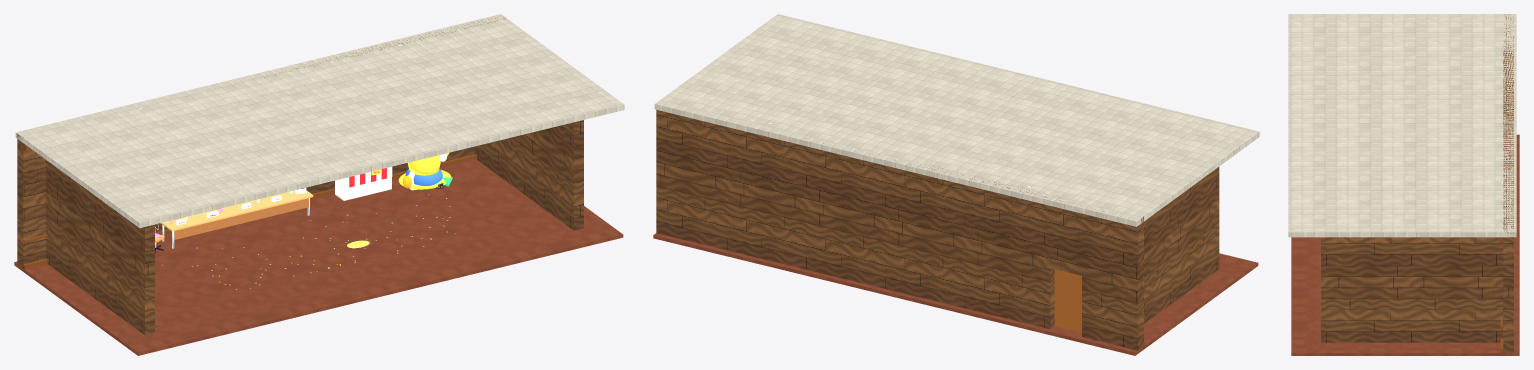
File: konferenz.glb
The picture shows the model from 3 angles, left to right: view 1: azimuth 30°, elevation 25°; view 2: azimuth 150°, elevation 25°; view 3: azimuth 270°, elevation 25°; orthographic projection. The views are drawn at different scales.
Parts seen in each view (by area): view 1: K_Decke.002, K_Boden.002, K_Seitenwand-1.001, K_Seitenwand1.001, K_Wand.001, K_Tischplatte.001, K_TischBlende.001, K_Stand.001, K_Sockel.001, K_ClBauch.001; view 2: K_Decke.002, K_Wand.001, K_Seitenwand-1.001, K_Boden.002, K_TuerBlatt.001; view 3: K_Decke.002, K_Seitenwand1.001, K_Boden.002, K_Wand.001.
Boxes of the visible parts, x1,y1,x2,y2 form: K_Decke.002: [15, 14, 624, 228]; K_Boden.002: [14, 159, 623, 355]; K_Seitenwand-1.001: [46, 160, 154, 335]; K_Seitenwand1.001: [475, 120, 583, 230]; K_Wand.001: [17, 17, 504, 268]; K_Tischplatte.001: [160, 190, 313, 231]; K_TischBlende.001: [174, 198, 308, 239]; K_Stand.001: [335, 177, 391, 200]; K_Sockel.001: [23, 154, 476, 269]; K_ClBauch.001: [407, 155, 440, 175]; K_Decke.002: [654, 14, 1259, 226]; K_Wand.001: [656, 110, 1143, 350]; K_Seitenwand-1.001: [1144, 167, 1219, 323]; K_Boden.002: [653, 233, 1258, 355]; K_TuerBlatt.001: [1054, 269, 1081, 332]; K_Decke.002: [1288, 14, 1516, 237]; K_Seitenwand1.001: [1321, 237, 1503, 342]; K_Boden.002: [1291, 134, 1519, 355]; K_Wand.001: [1503, 14, 1513, 352].
Size of the model in its own units: 19 by 5.13 by 8.5.
Materials: 64 (5 with a texture image).
